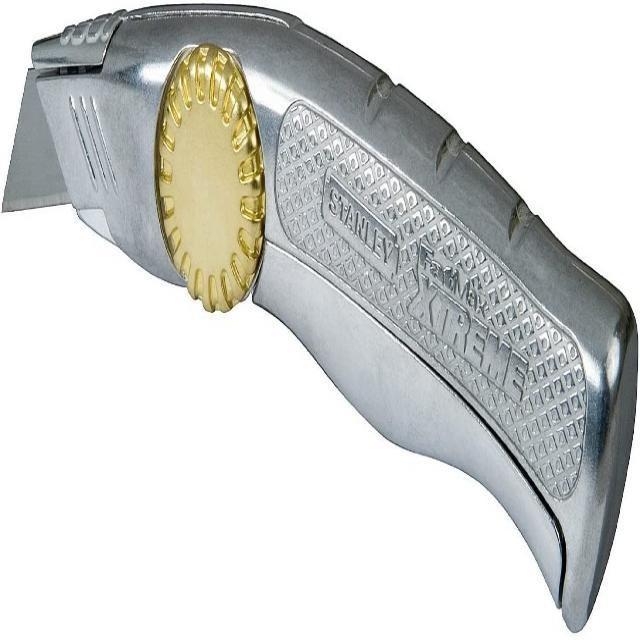estilete: (5, 4, 637, 631)
